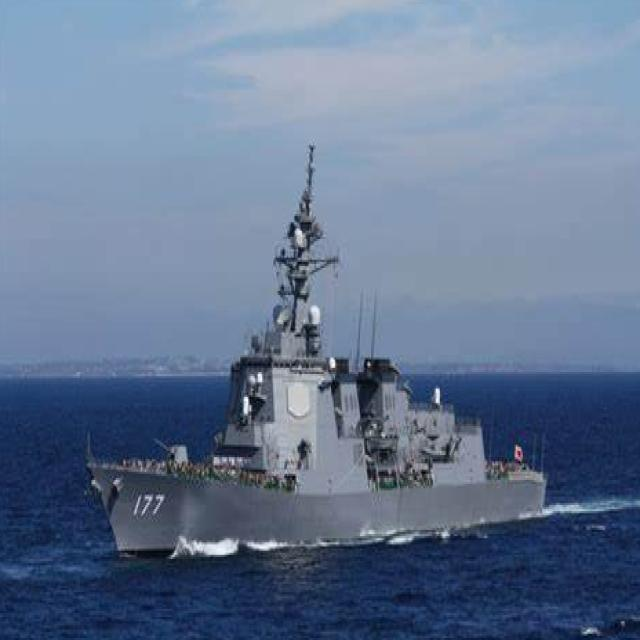navalvessels: (83, 123, 576, 554)
